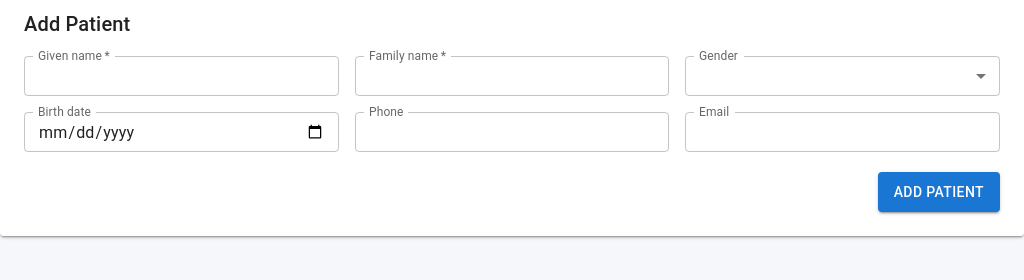
PatientForm › blocks submit when phone is empty and shows inline error
The width and height of the screenshot is (1024, 280).
Click the button "Add Patient": x=939, y=192 878,172 -> 1000,212
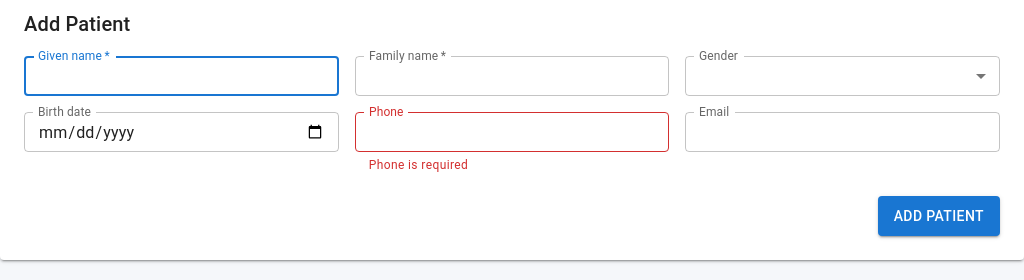
Now the text "Phone is required" is shown, box 369,158 -> 468,172
